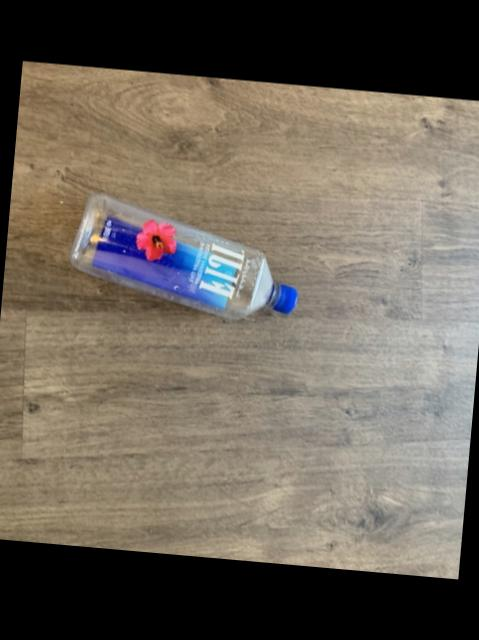plastic: (71, 195, 297, 320)
